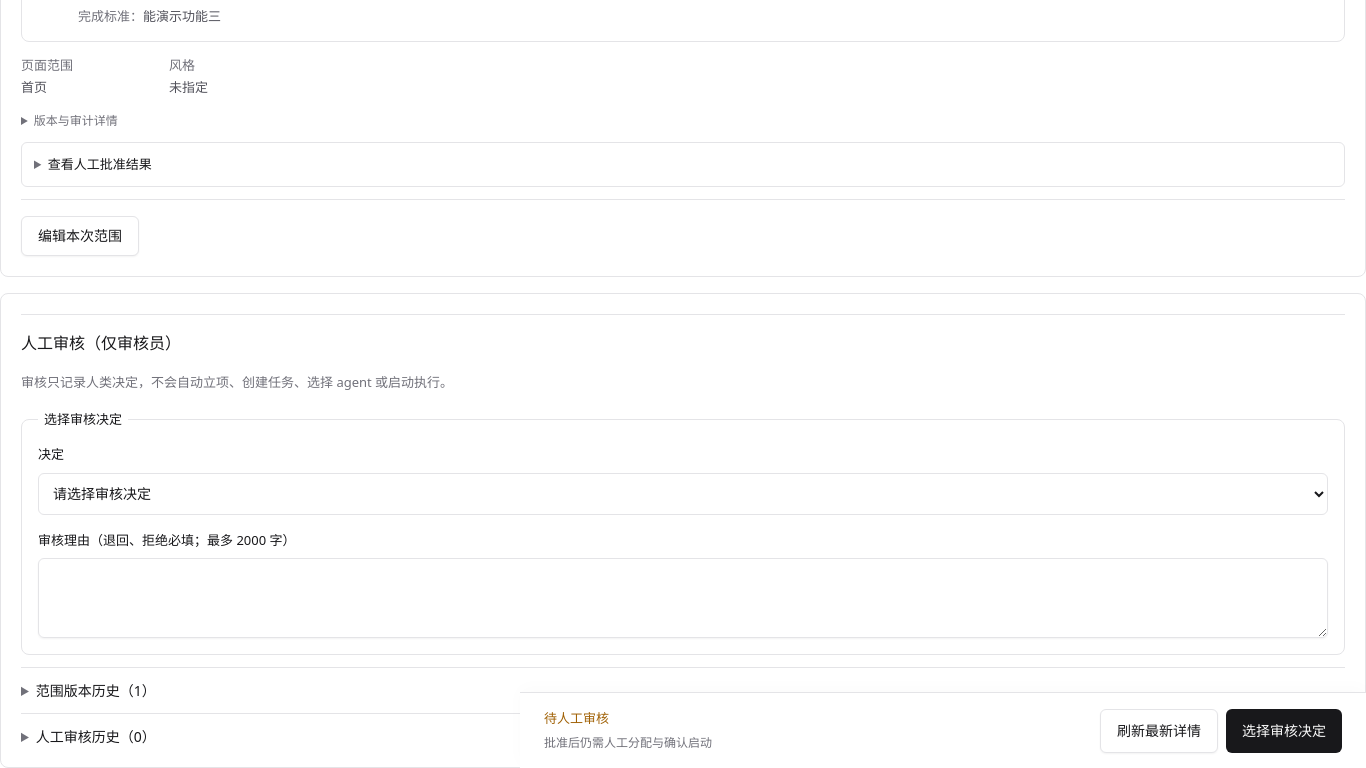
captured human review confirmation › keeps failed confirmation open and restores the unchanged review draft on cancel
(page scrolled)
Select "退回补充" in the dropdown labelled "决定": (683, 494) top-left (38, 473), bottom-right (1328, 515)
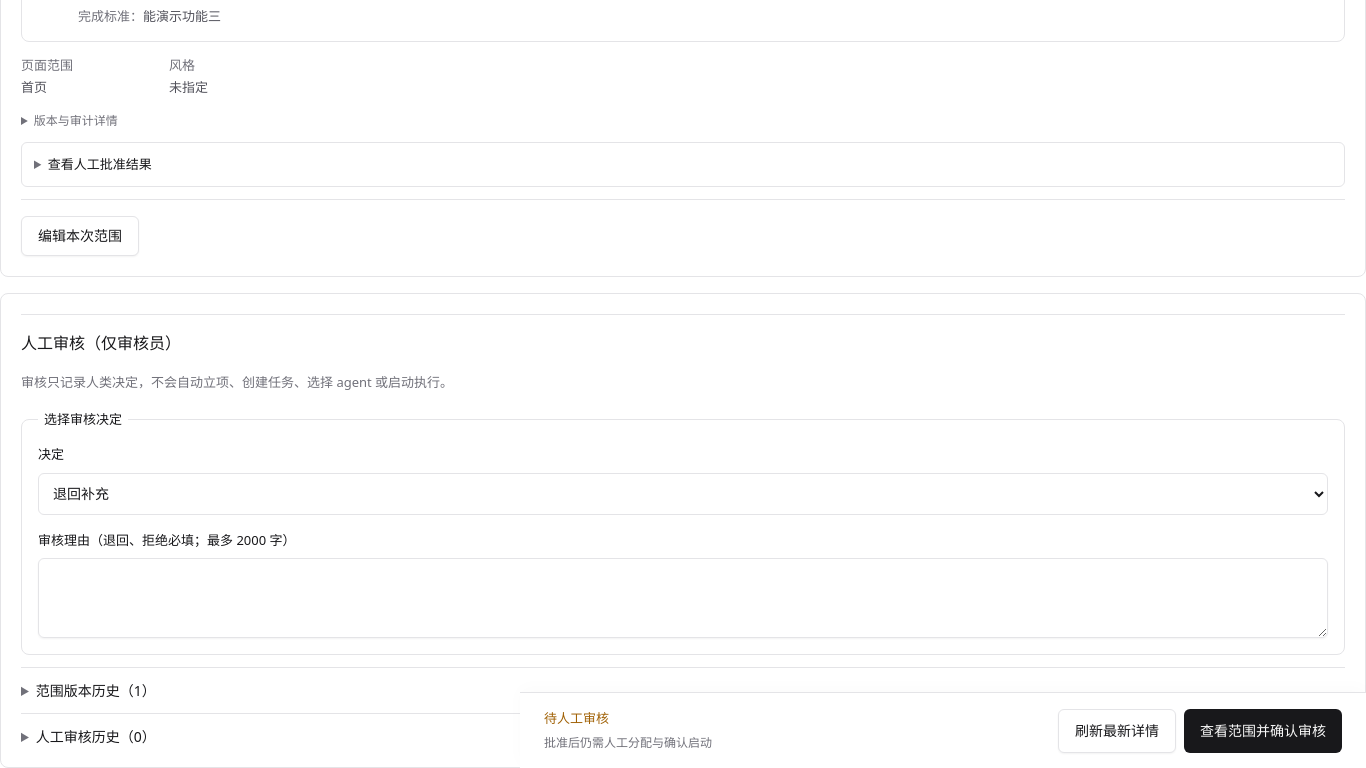
In the text box labelled "审核理由（退回、拒绝必填；最多 2000 字）": (683, 598) top-left (38, 558), bottom-right (1328, 638), type "需要补充验收边界"
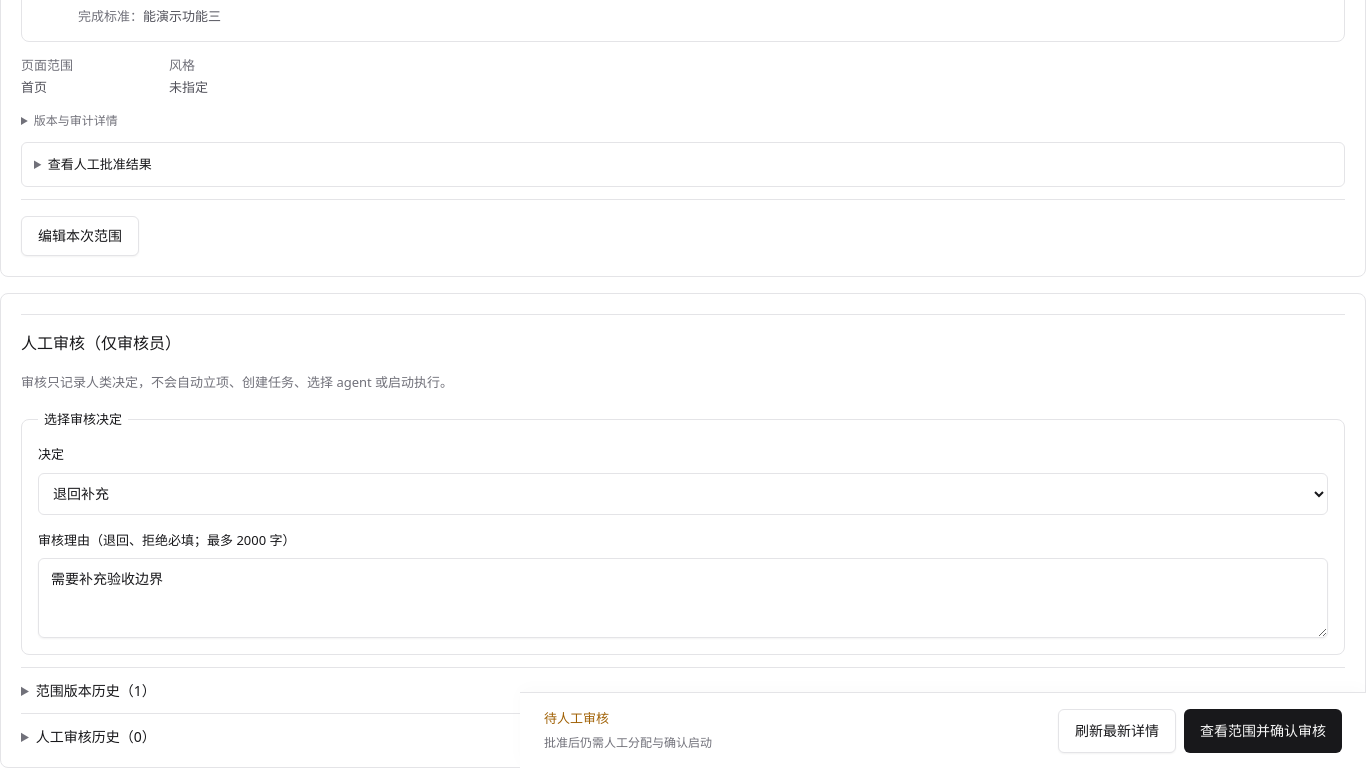
Click the button "查看范围并确认审核": (1263, 730) top-left (1184, 708), bottom-right (1342, 752)
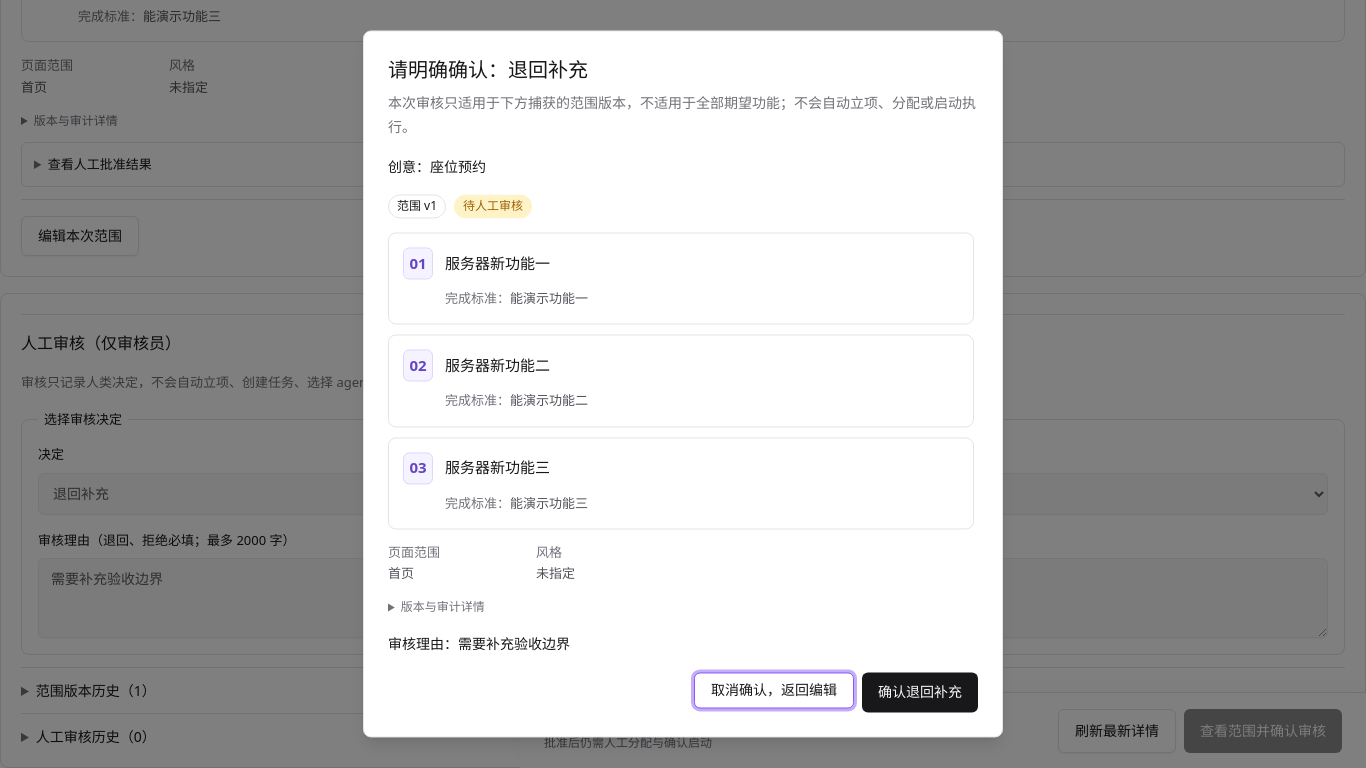
Check: the heading "服务器新功能一" is shown, box top-left (445, 256), bottom-right (550, 271)
Check: the text "需要补充验收边界" is shown, box top-left (458, 635), bottom-right (570, 654)
Click the button "确认退回补充": (920, 692) top-left (862, 672), bottom-right (978, 712)
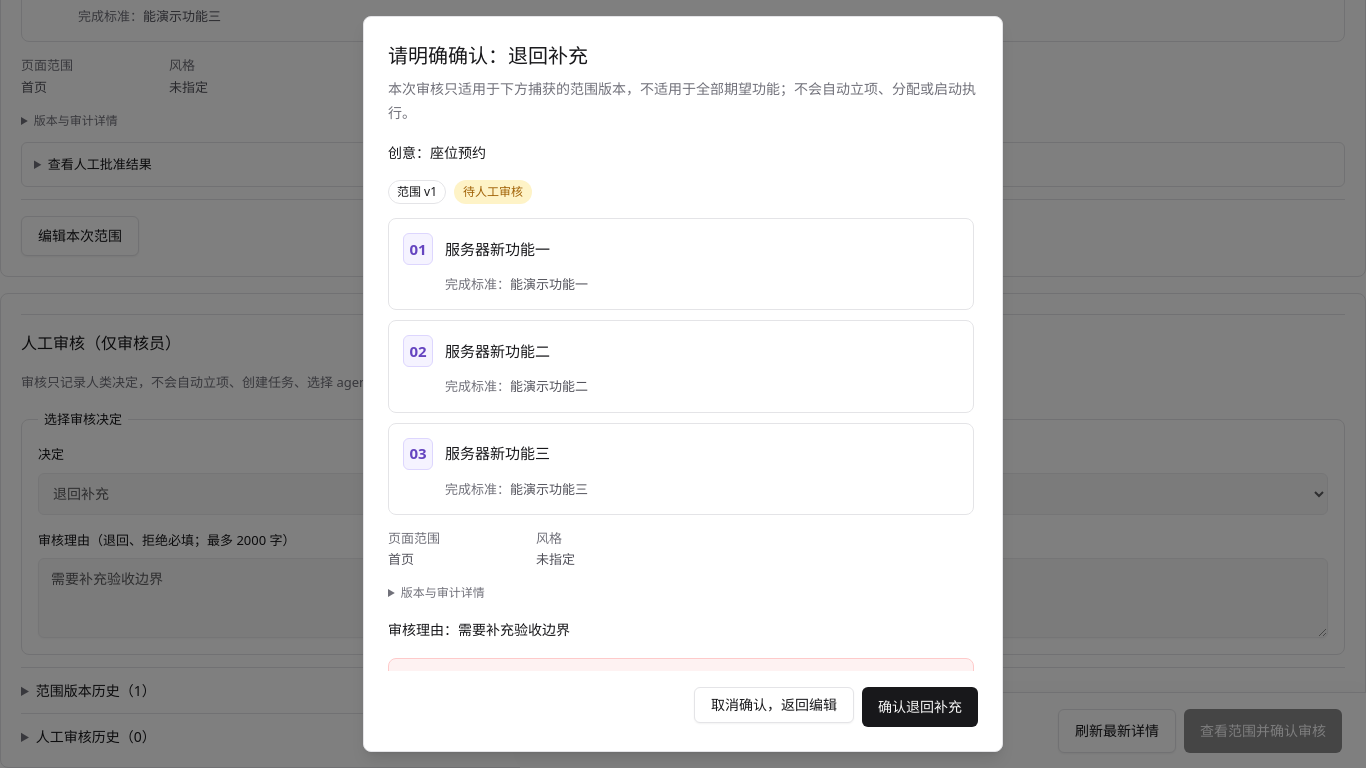
Click the button "取消确认，返回编辑": (774, 705) top-left (694, 687), bottom-right (854, 723)
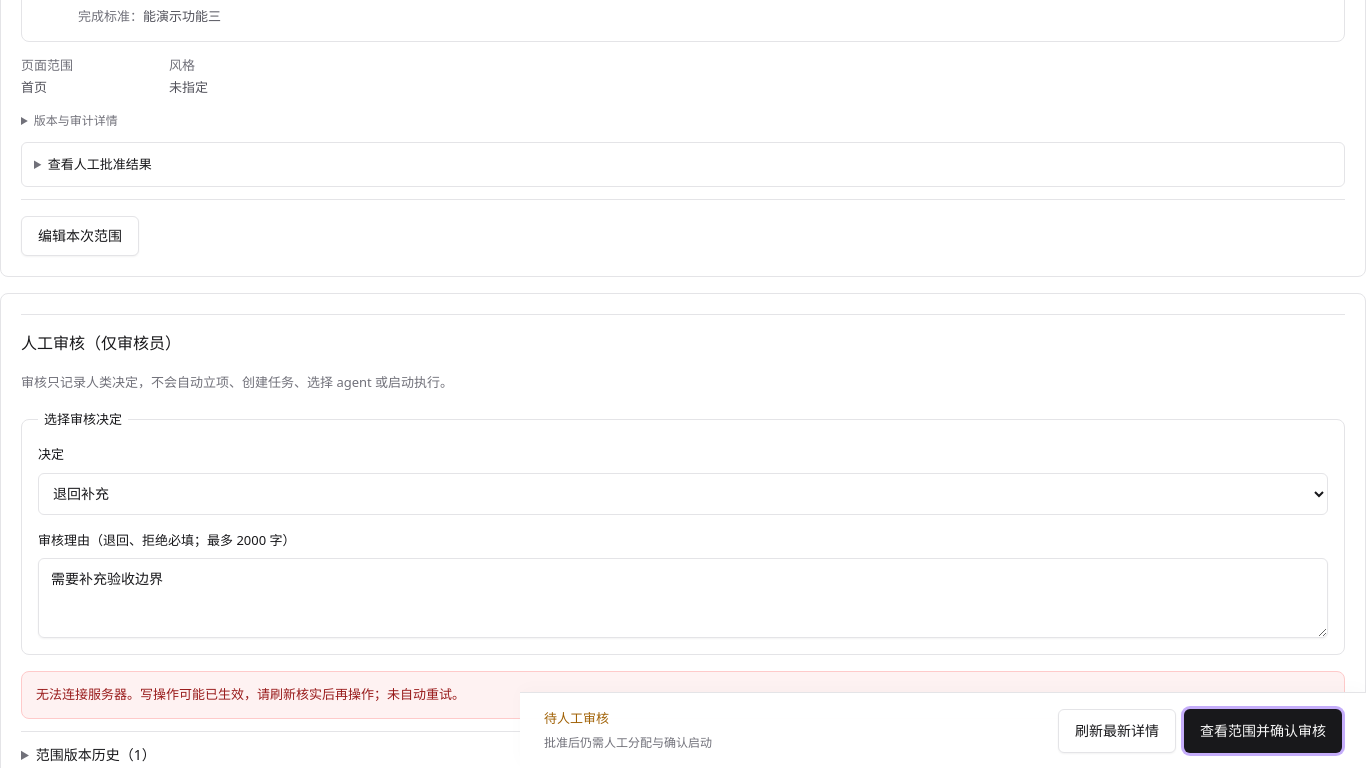
Check: the dialog is gone
